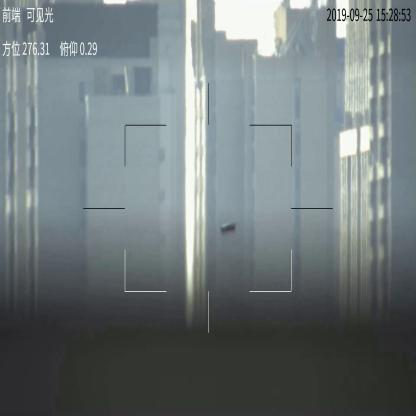uav: (220, 219, 237, 232)
